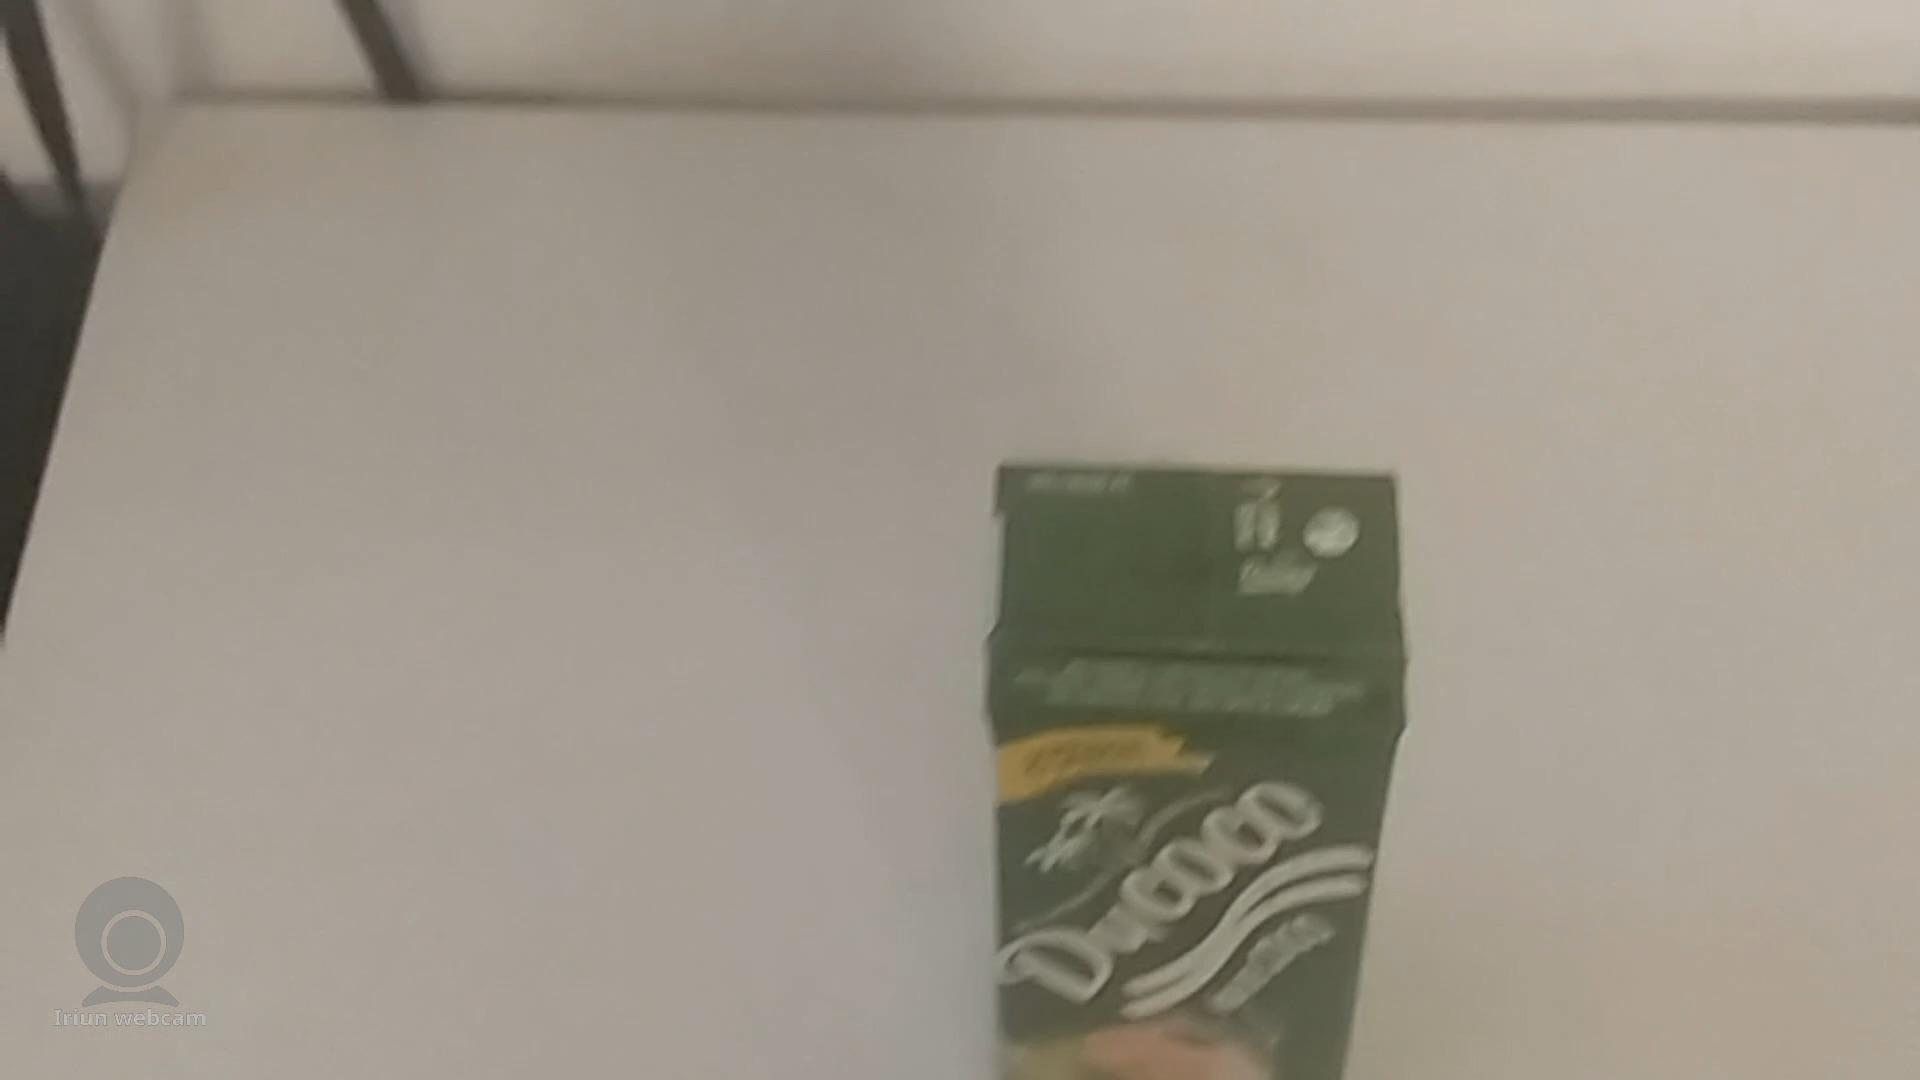coco: (986, 462, 1414, 1080)
